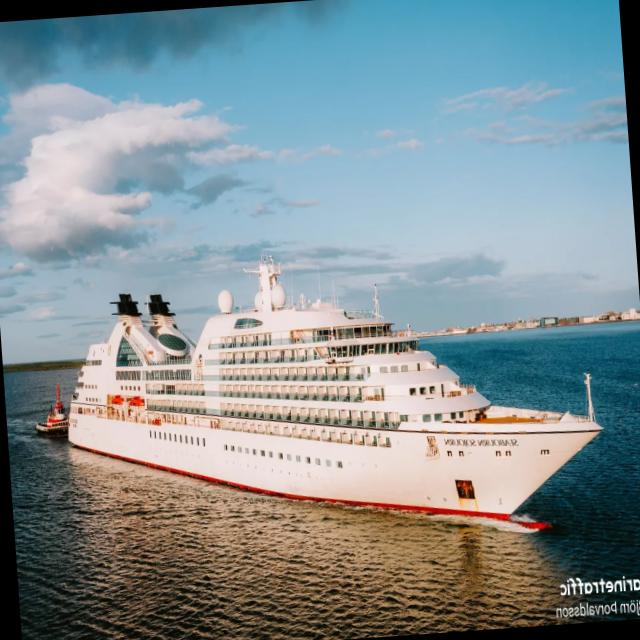Cruise: (67, 254, 602, 520)
Tug: (35, 384, 68, 435)
